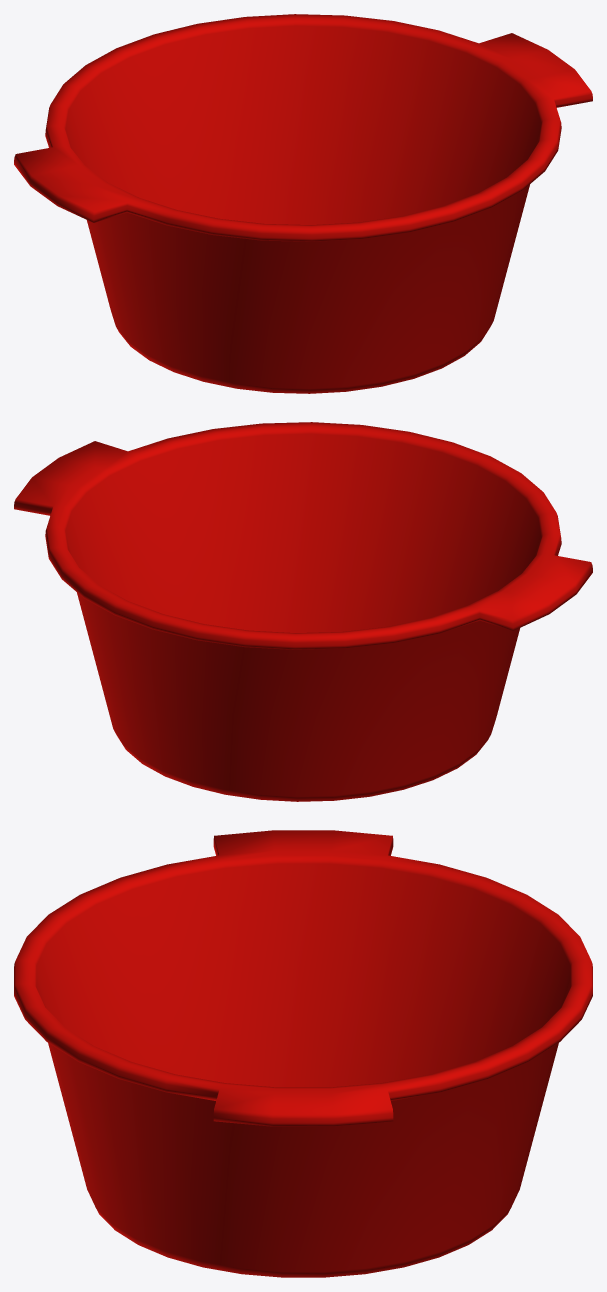
The model's file is sweethome3d-scopia-basin.glb.
The picture shows the model from 3 angles, top to bottom: view 1: azimuth 30°, elevation 25°; view 2: azimuth 150°, elevation 25°; view 3: azimuth 270°, elevation 25°; orthographic projection. The views are drawn at different scales.
Parts seen in each view (by area): view 1: basin_Circle; view 2: basin_Circle; view 3: basin_Circle.
Boxes of the visible parts, x1,y1,x2,y2 form: basin_Circle: [14, 14, 592, 393]; basin_Circle: [14, 422, 592, 801]; basin_Circle: [14, 830, 592, 1277].
Bounding box in the file's own units: 76.81 × 27.03 × 65.83.
